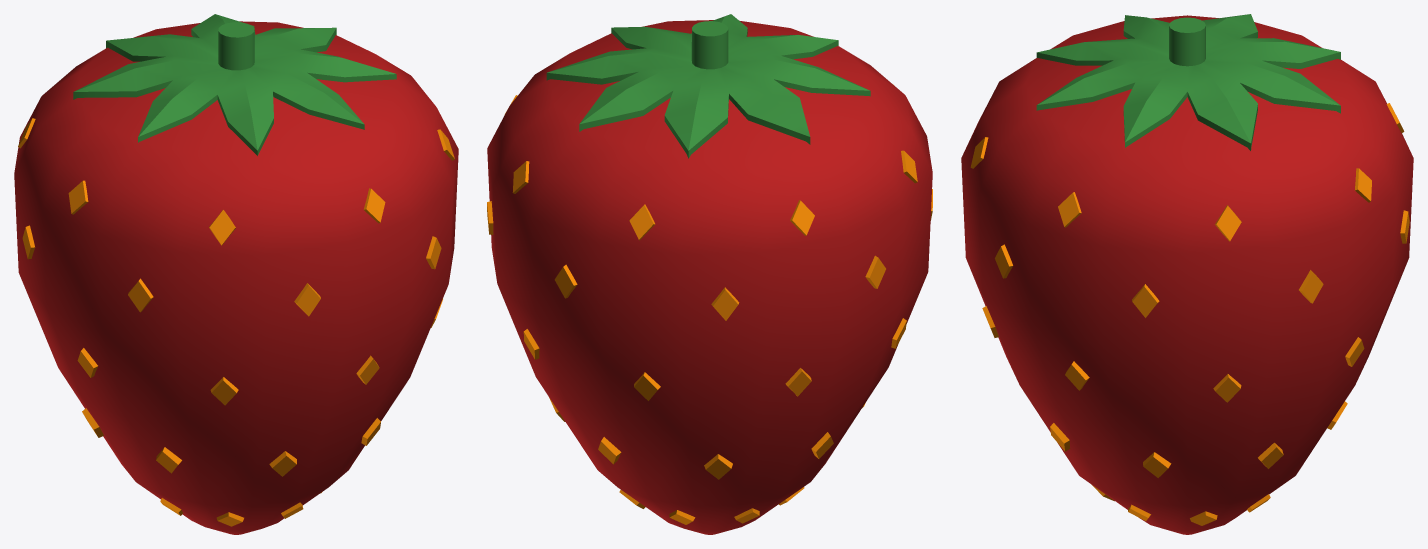
The model's file is strawberry.fbx.
3 renders of one model, left to right at view 1: azimuth 30°, elevation 25°; view 2: azimuth 150°, elevation 25°; view 3: azimuth 270°, elevation 25°, orthographic.
Parts seen in each view (by area): view 1: strawberry; view 2: strawberry; view 3: strawberry.
Part boxes in pixels (bbox=[...]): strawberry: bbox=[14, 14, 458, 534]; strawberry: bbox=[487, 14, 932, 534]; strawberry: bbox=[961, 14, 1413, 534].
Bounding box in the file's own units: 86.51 × 107 × 86.51.
